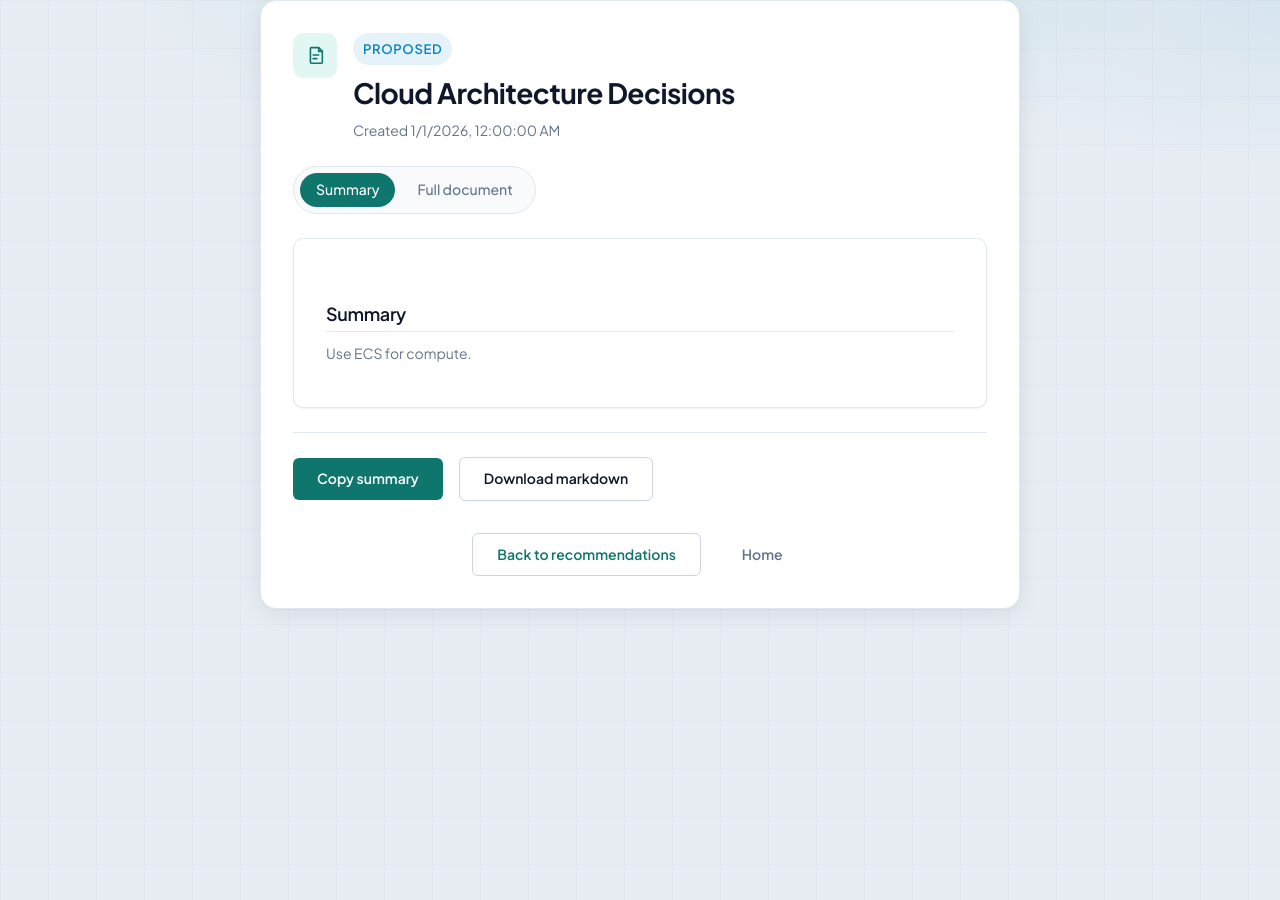
Test: ArchitectureDecisionPage › switches to full document view
The width and height of the screenshot is (1280, 900).
Click the button "Full document": (465, 190) [401,173,529,206]
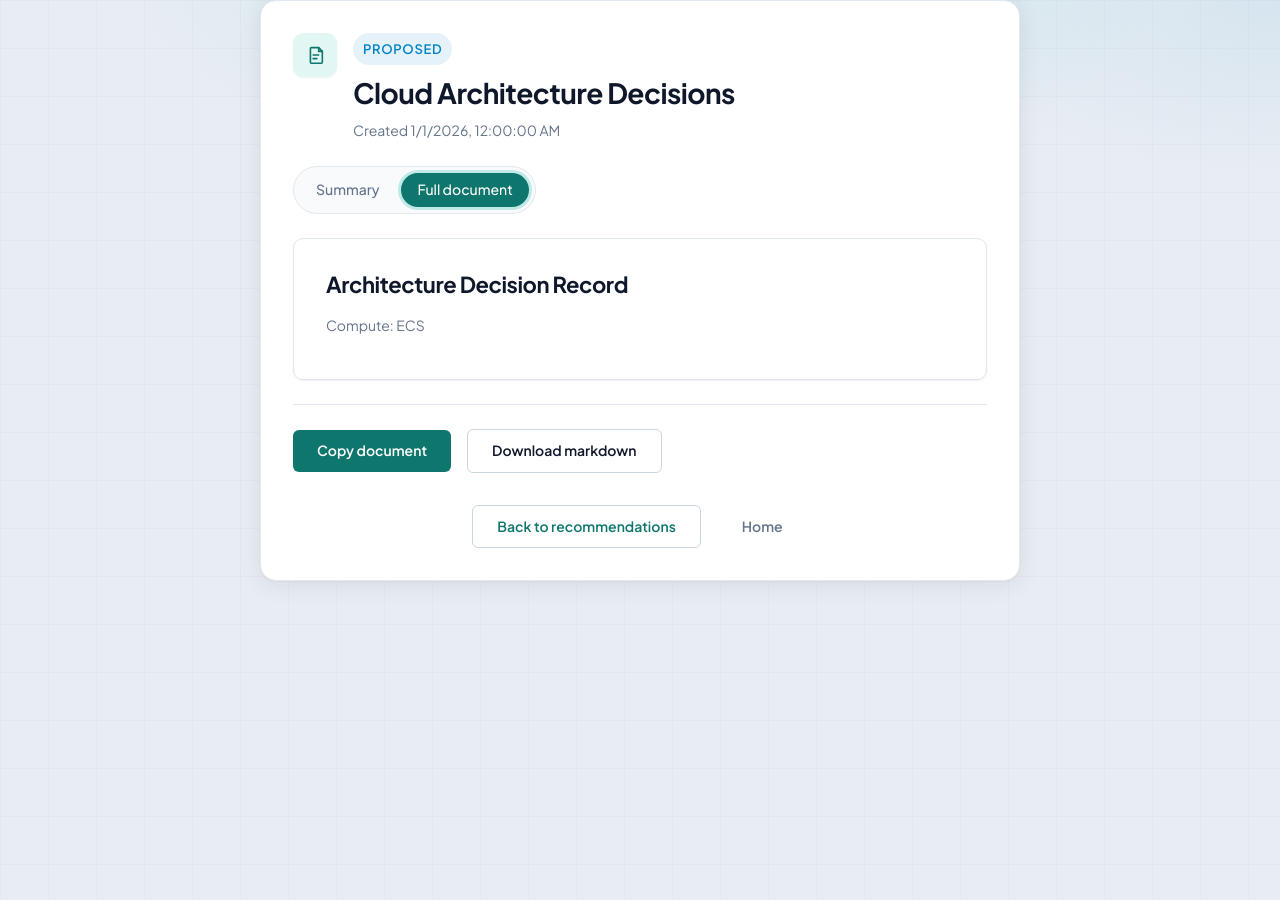
Now the text "Compute: ECS" is shown, box [326,316,425,334]
